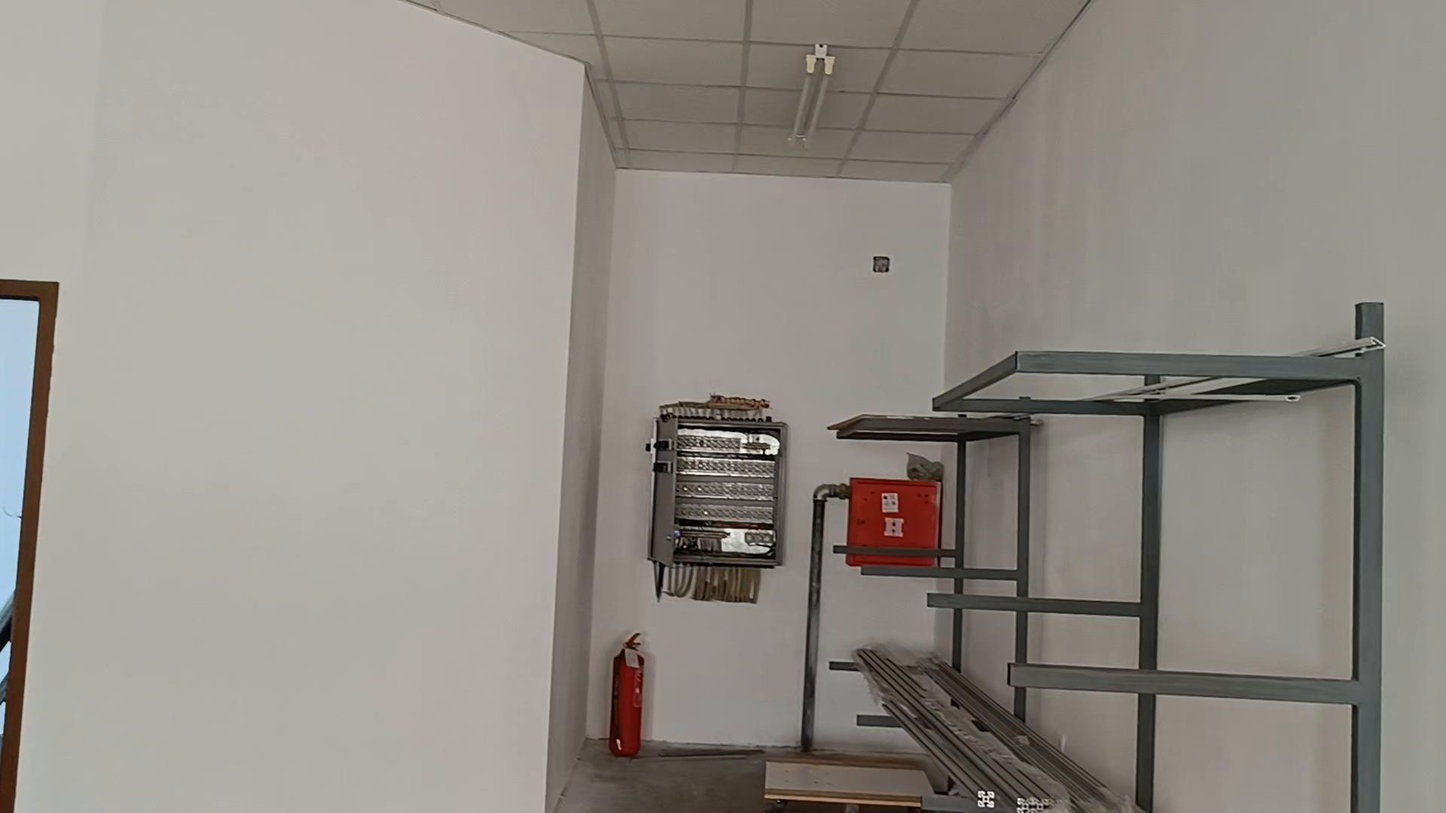ceiling: (410, 0, 1091, 181)
floor: (553, 740, 926, 812)
wall: (587, 0, 1445, 812), (0, 0, 609, 812), (1160, 390, 1352, 676), (642, 391, 794, 609), (1155, 697, 1349, 812), (1035, 419, 1139, 598)
